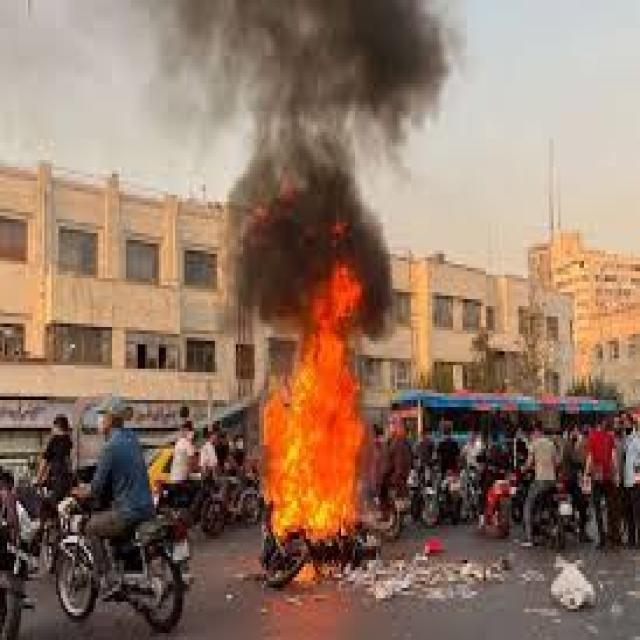Fire: (258, 257, 379, 545), (299, 559, 316, 587)
Smoke: (192, 0, 456, 261)
